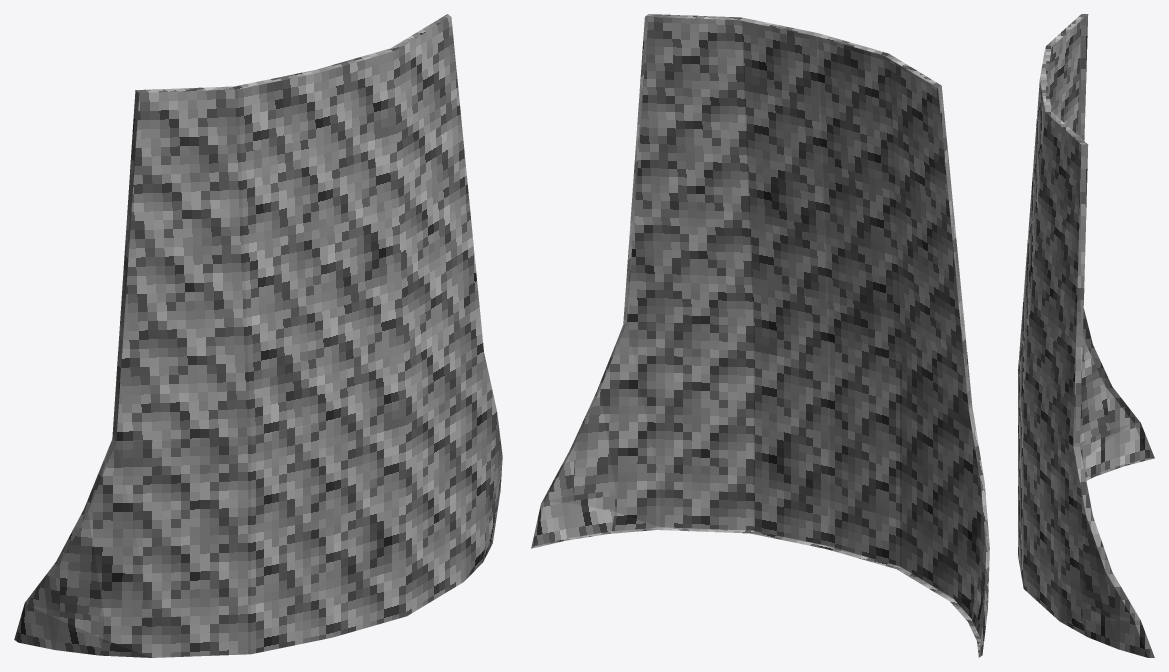
The model's file is cloak_trimmed_outside.obj.
3 views of the same model, side by side, from view 1: azimuth 30°, elevation 25°; view 2: azimuth 150°, elevation 25°; view 3: azimuth 270°, elevation 25° (orthographic). The views are drawn at different scales.
Parts seen in each view (by area): view 1: OutsideMesh_Plane.001; view 2: OutsideMesh_Plane.001; view 3: OutsideMesh_Plane.001.
Boxes of the visible parts, x1,y1,x2,y2 form: OutsideMesh_Plane.001: (14,14,502,657); OutsideMesh_Plane.001: (531,14,989,657); OutsideMesh_Plane.001: (1018,14,1154,657).
Size of the model in its own units: 3.05 by 3.42 by 0.8852.
